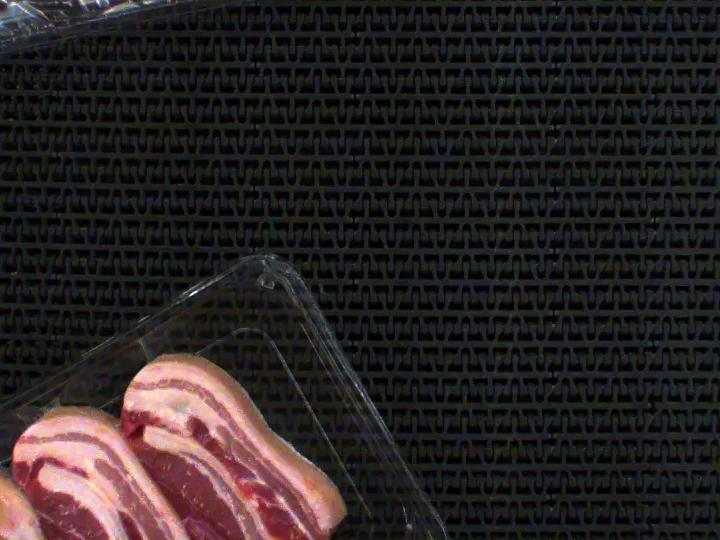packaging-error: (1, 391, 92, 426), (126, 337, 169, 368)
